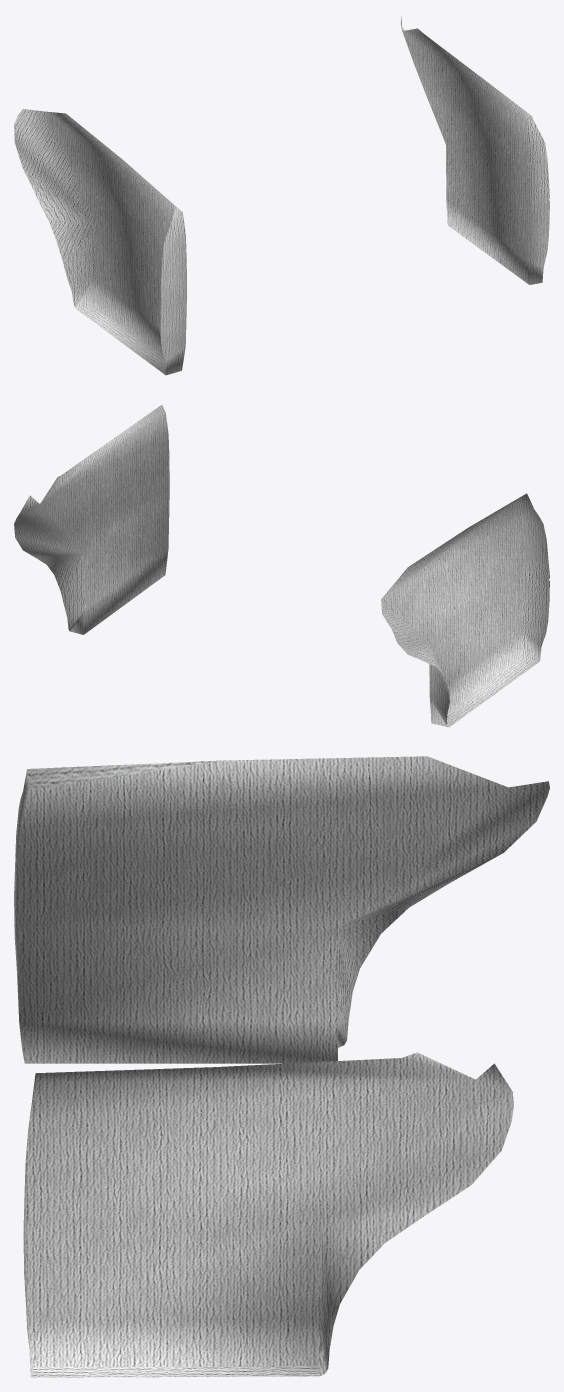
Rendered from reardoors.obj.
The picture shows the model from 3 angles, top to bottom: view 1: azimuth 30°, elevation 25°; view 2: azimuth 150°, elevation 25°; view 3: azimuth 270°, elevation 25°; orthographic projection. The views are drawn at different scales.
Visible parts, largest first — view 1: RearDoors1; view 2: RearDoors1; view 3: RearDoors1.
Boxes of the visible parts, x1=… form: RearDoors1: x1=14, y1=16, x2=549, y2=375; RearDoors1: x1=14, y1=405, x2=549, y2=727; RearDoors1: x1=14, y1=756, x2=549, y2=1377.
Size of the model in its own units: 6.38 by 2.76 by 4.29.
1 material, 1 textured.
